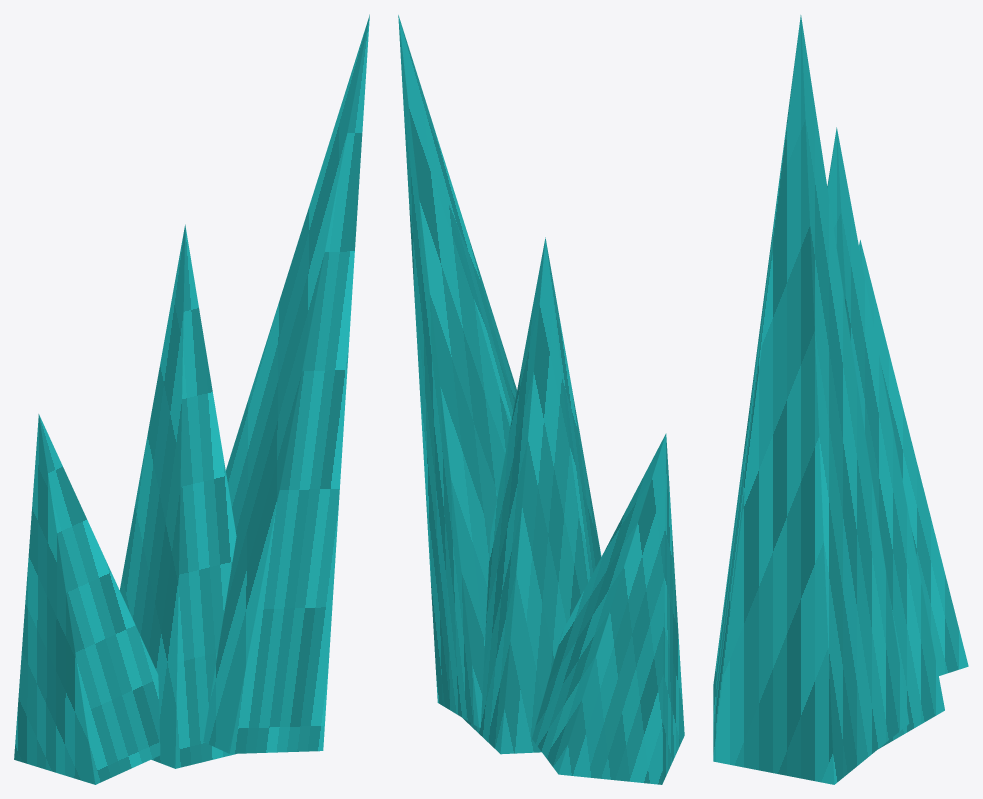
Rendered from crystal_63.glb.
3 views of the same model, side by side, from view 1: azimuth 30°, elevation 25°; view 2: azimuth 150°, elevation 25°; view 3: azimuth 270°, elevation 25° (orthographic). The views are drawn at different scales.
Parts seen in each view (by area): view 1: Jade.002, Jade.001, Jade; view 2: Jade.002, Jade.001, Jade; view 3: Jade.002, Jade.001, Jade.
Part boxes in pixels (x1,y1,x2,y2): Jade.002: (203,14,369,753); Jade.001: (119,224,236,768); Jade: (14,414,160,784); Jade.002: (398,15,516,727); Jade.001: (463,237,601,754); Jade: (532,433,684,784); Jade.002: (713,15,909,784); Jade.001: (827,127,944,748); Jade: (859,240,968,675).
Size of the model in its own units: 0.8543 by 1.81 by 0.5186.
1 material, 1 textured.
